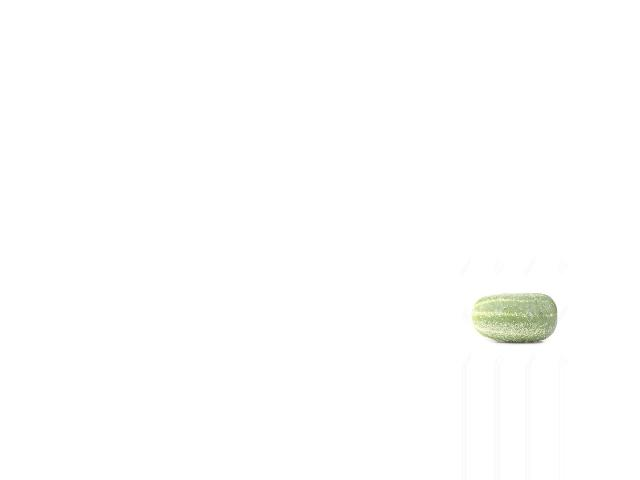cucumber: (472, 293, 558, 342)
